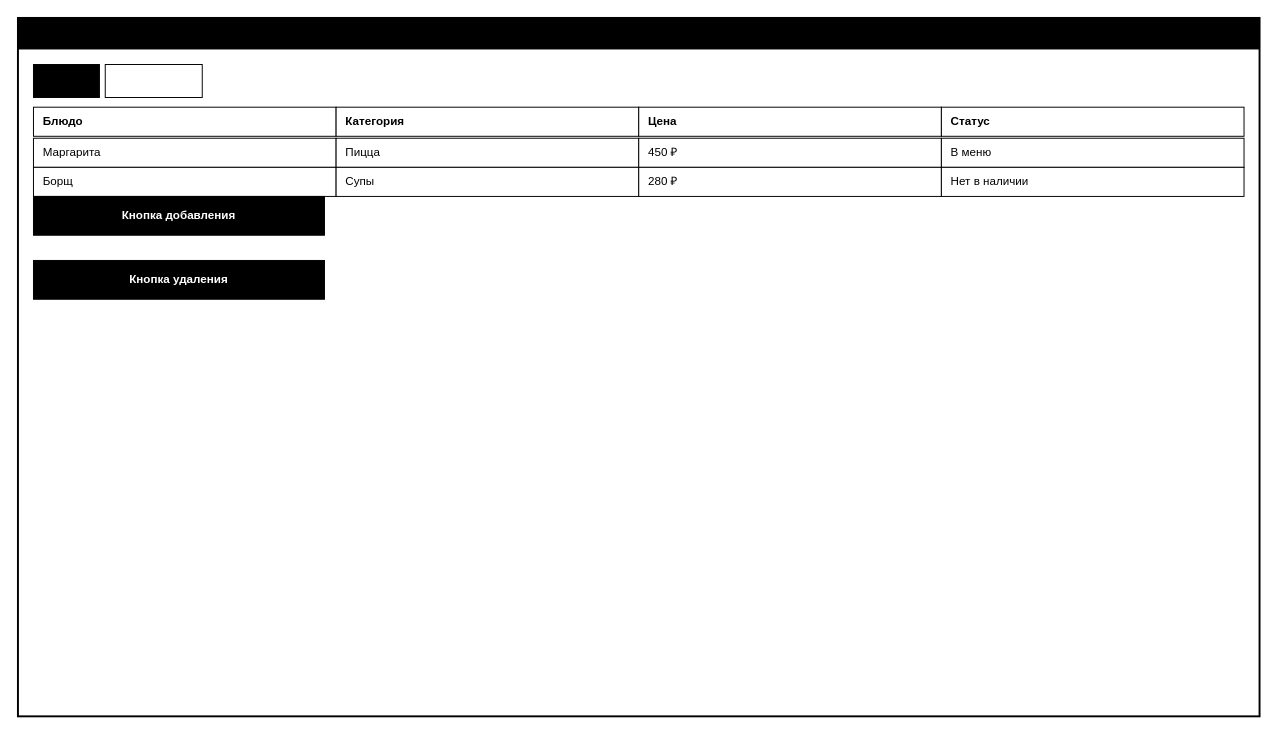
This 1277x733 diagram has some shape labels left out. The shapes that lost their labels are listed below. From the top down, each one's centre as x and y in pixels, then its label:
the point at 65,80: Блюда
the point at 153,80: Категории
